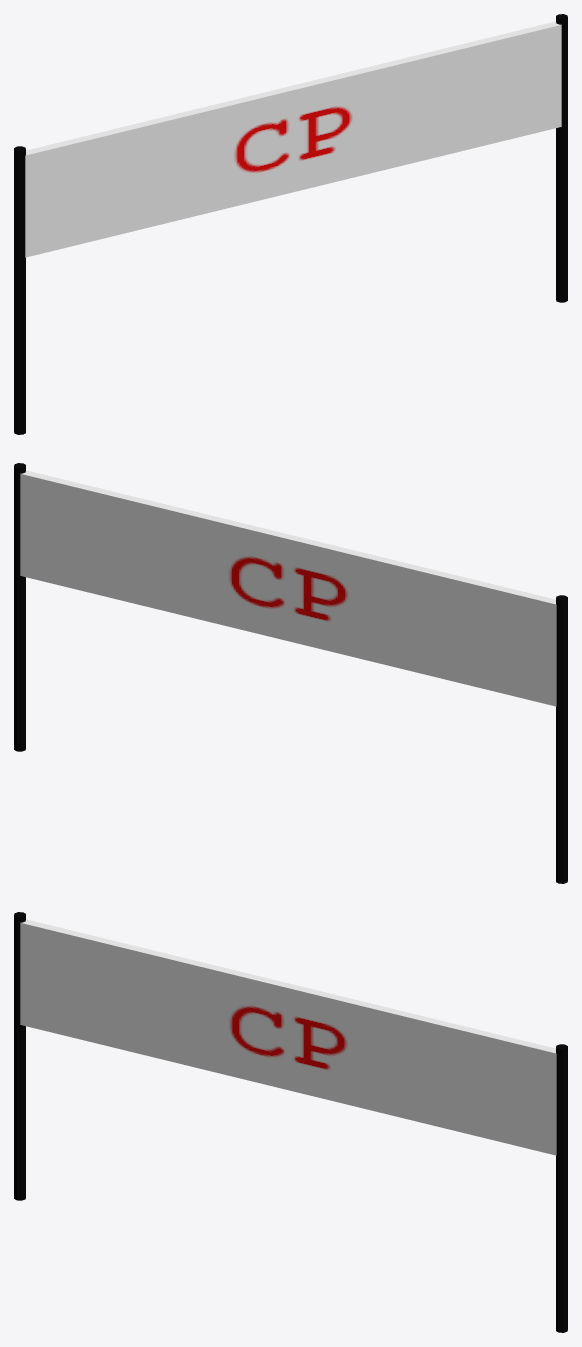
File: cp-banner.glb
3 renders of one model, top to bottom at view 1: azimuth 30°, elevation 25°; view 2: azimuth 150°, elevation 25°; view 3: azimuth 330°, elevation 25°, orthographic.
Visible parts, largest first — view 1: Cube, Cylinder.001, Cylinder; view 2: Cube, Cylinder.001, Cylinder; view 3: Cube, Cylinder, Cylinder.001.
Boxes of the visible parts, x1,y1,x2,y2 form: Cube: (25, 21, 561, 257); Cylinder.001: (14, 146, 25, 434); Cylinder: (556, 14, 567, 302); Cube: (20, 470, 556, 706); Cylinder.001: (556, 595, 567, 883); Cylinder: (14, 463, 25, 751); Cube: (20, 919, 556, 1155); Cylinder: (556, 1044, 567, 1332); Cylinder.001: (14, 912, 25, 1200).
Size of the model in its own units: 10.2 by 5 by 0.2.
2 materials, 1 textured.
